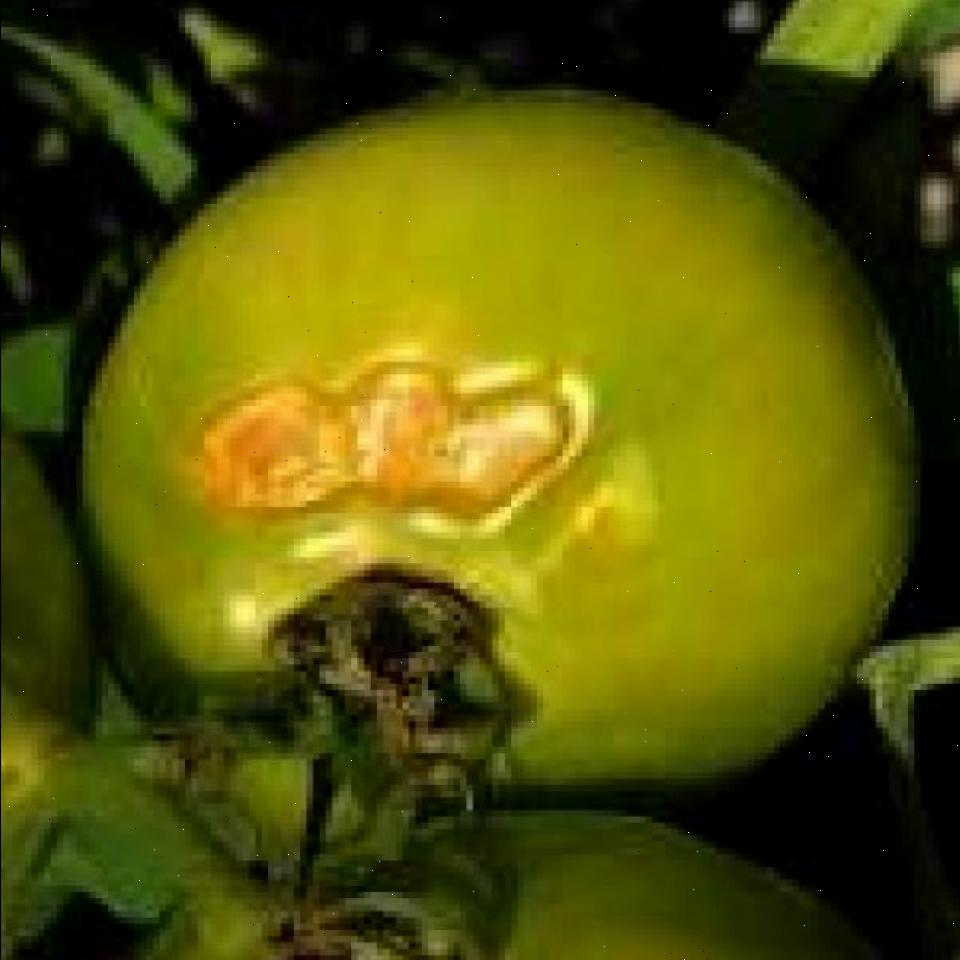Blossom_end_rot: (182, 308, 636, 580)
